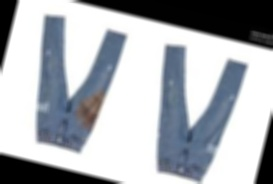earth: (78, 93, 103, 122)
